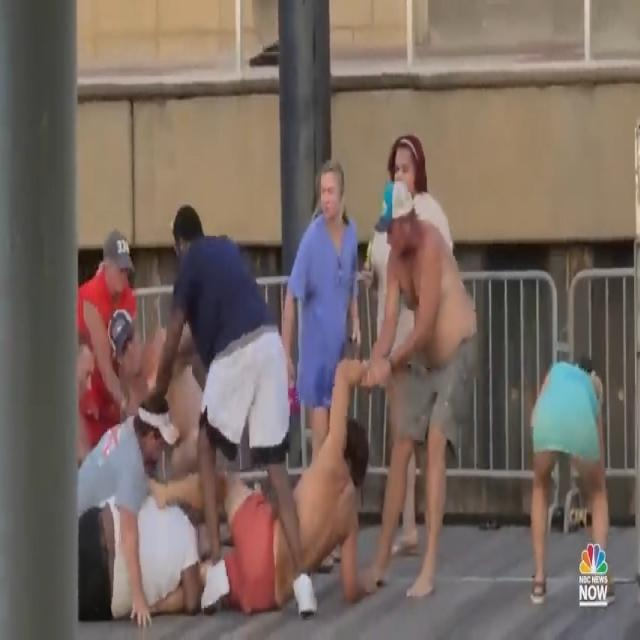fight: (76, 131, 480, 632)
non-fight: (524, 348, 620, 614)
